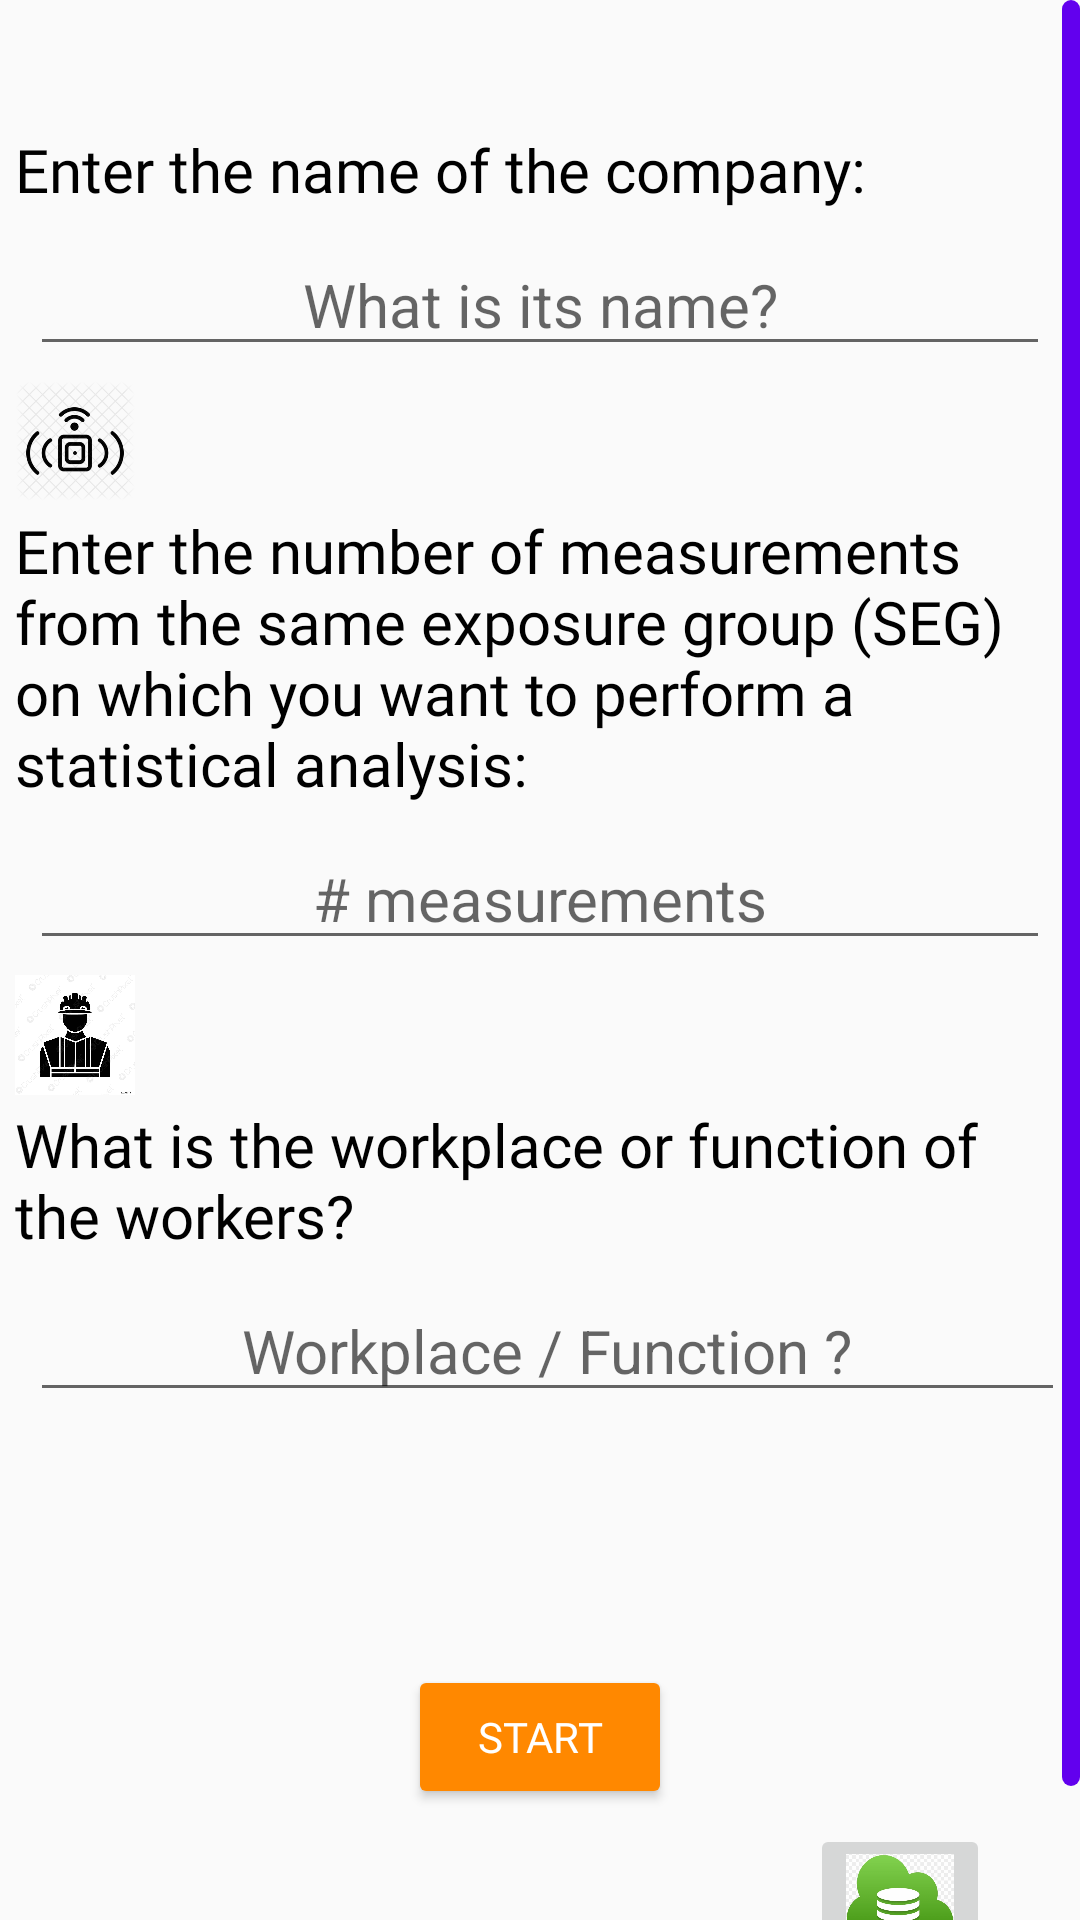

Named icons in this screenshot (1080×1920) and their centers, (x,y):
icon worker: (85,1043)
